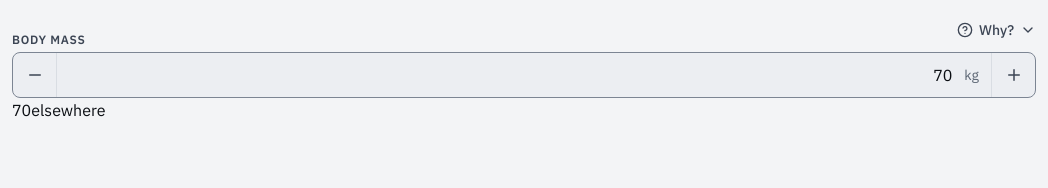
NumberField › passes a "Why?" to its field
This screenshot has width=1048, height=188.
Click the button "Why?": click(996, 30) [957,12,1036,48]
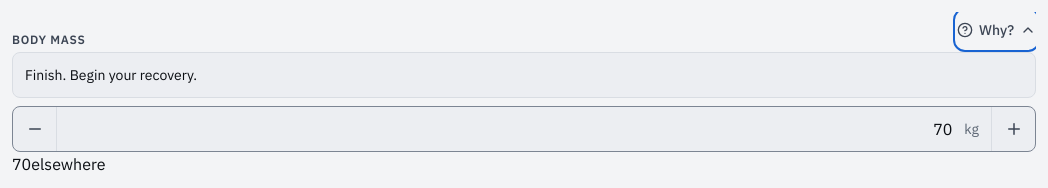
Result: the text "Finish. Begin your recovery." is shown at [25,66,197,84]
